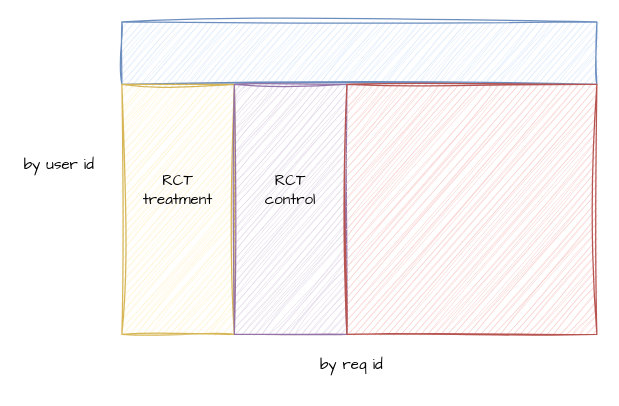
Image size: 619x406. Some labels were removed from this diagram. The centre of each missing label's shape, as x and y in pixels:
"holdout users" belongs at point (359, 52).
"model" belongs at point (471, 208).
